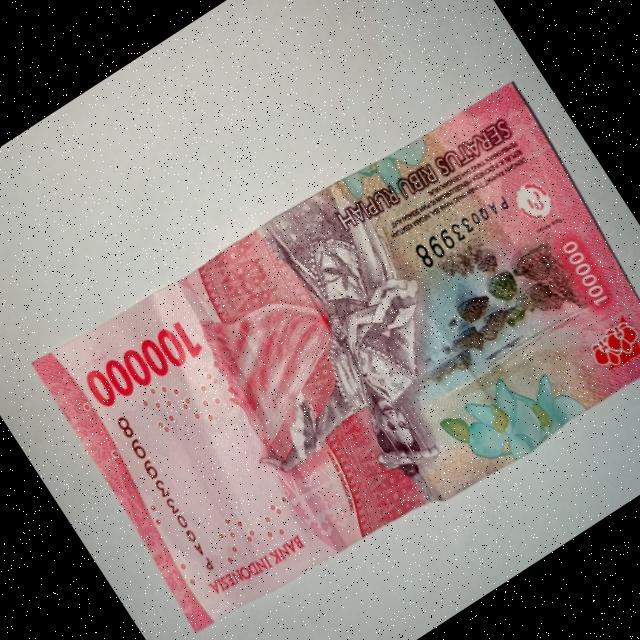100K: (17, 51, 640, 640)
